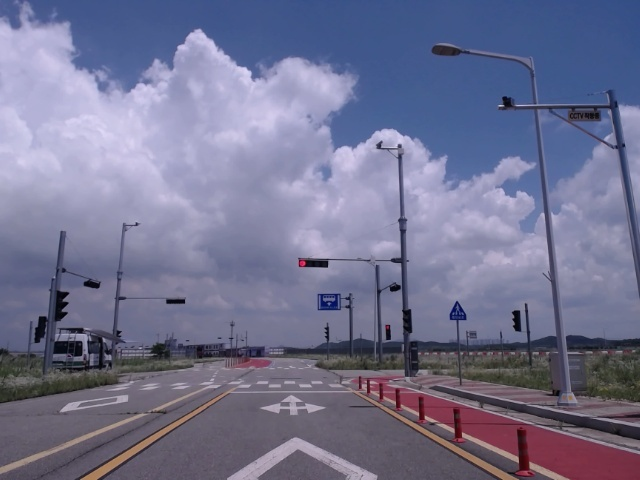red_4: (298, 260, 328, 267)
